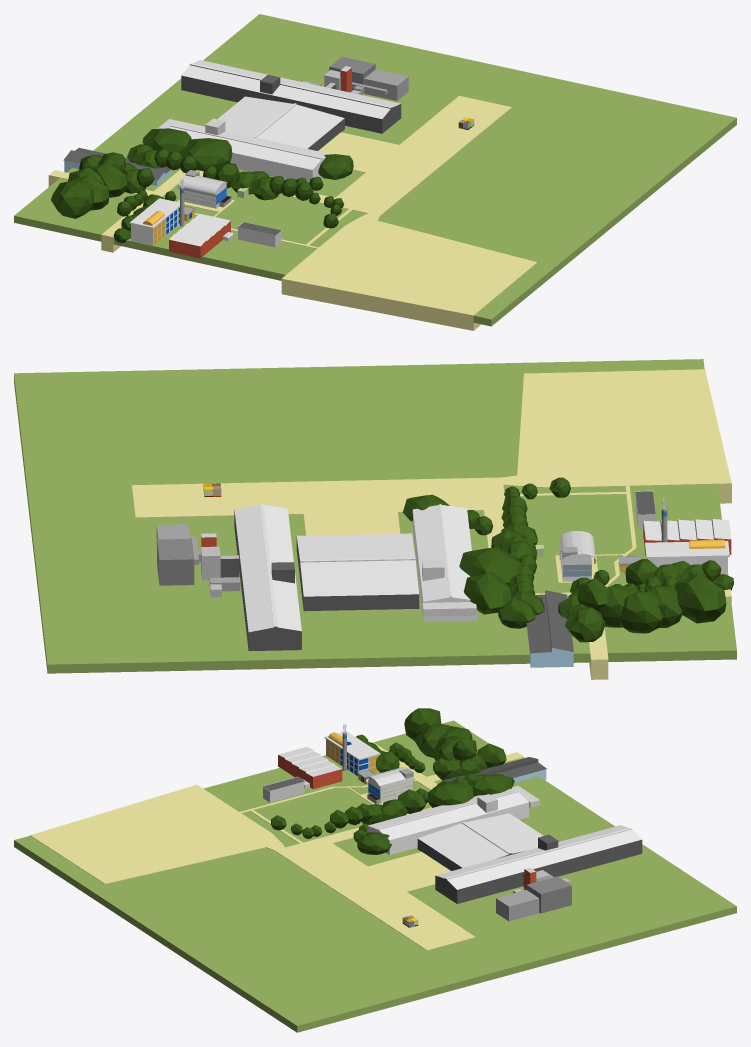
Rendered from citi.glb.
3 renders of one model, top to bottom at view 1: azimuth 30°, elevation 25°; view 2: azimuth 150°, elevation 25°; view 3: azimuth 270°, elevation 25°, orthographic. The views are drawn at different scales.
Parts seen in each view (by area): view 1: Plane, Plane.001, Cube.011, Cube.009, Cube.008, Cube.005, Cube.003, Cube, Icosphere.015, Icosphere.013, Cube.014, Icosphere.014 (+6 smaller); view 2: Plane, Plane.001, Cube.009, Cube.011, Cube.008, Cube.023, Icosphere.015, Cube.005, Cube.013, Cube.003, Cube, Icosphere.016 (+12 smaller); view 3: Plane, Plane.001, Cube.011, Cube.009, Cube.008, Cube.005, Cube.003, Cube, Cube.013, Cube.023, Cube.014, Icosphere.013 (+5 smaller).
Boxes of the visible parts, box(x1,y1,x2,y2) form: Plane: box(14, 14, 736, 326); Plane.001: box(48, 95, 537, 330); Cube.011: box(181, 60, 401, 133); Cube.009: box(217, 96, 344, 150); Cube.008: box(169, 121, 331, 182); Cube.005: box(169, 213, 230, 258); Cube.003: box(129, 198, 179, 245); Cube: box(178, 170, 231, 208); Icosphere.015: box(51, 180, 93, 218); Icosphere.013: box(179, 138, 232, 171); Cube.014: box(364, 69, 408, 100); Icosphere.014: box(142, 128, 191, 153); Plane: box(14, 359, 736, 673); Plane.001: box(131, 369, 731, 679); Cube.009: box(296, 533, 419, 611); Cube.011: box(234, 503, 301, 650); Cube.008: box(412, 504, 477, 621); Cube.023: box(526, 590, 573, 667); Icosphere.015: box(675, 573, 726, 623); Cube.005: box(643, 519, 731, 555); Cube.013: box(157, 538, 194, 585); Cube.003: box(645, 541, 729, 575); Cube: box(559, 531, 596, 581); Icosphere.016: box(619, 591, 663, 633); Plane: box(14, 720, 736, 1032); Plane.001: box(30, 742, 524, 950); Cube.011: box(435, 825, 642, 903); Cube.009: box(417, 813, 543, 870); Cube.008: box(367, 789, 529, 854); Cube.005: box(278, 747, 342, 789); Cube.003: box(324, 731, 380, 776); Cube: box(365, 767, 413, 803); Cube.013: box(526, 876, 571, 913); Cube.023: box(445, 757, 546, 782); Cube.014: box(496, 890, 539, 921); Icosphere.013: box(427, 781, 473, 807).
Bounding box in the file's own units: 333 × 32.4 × 333.
1 material, 1 textured.
